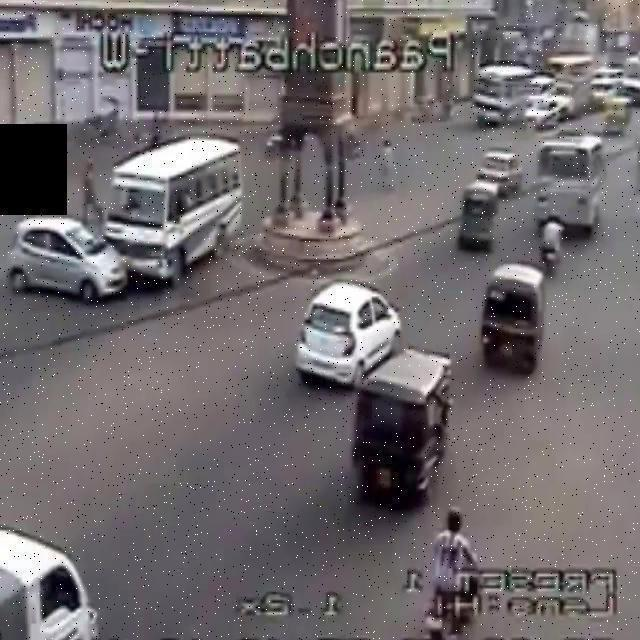accident: (5, 130, 248, 308)
